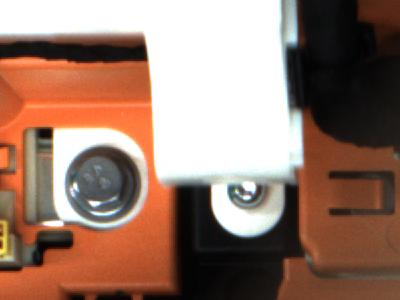nut_b: (60, 143, 143, 224)
